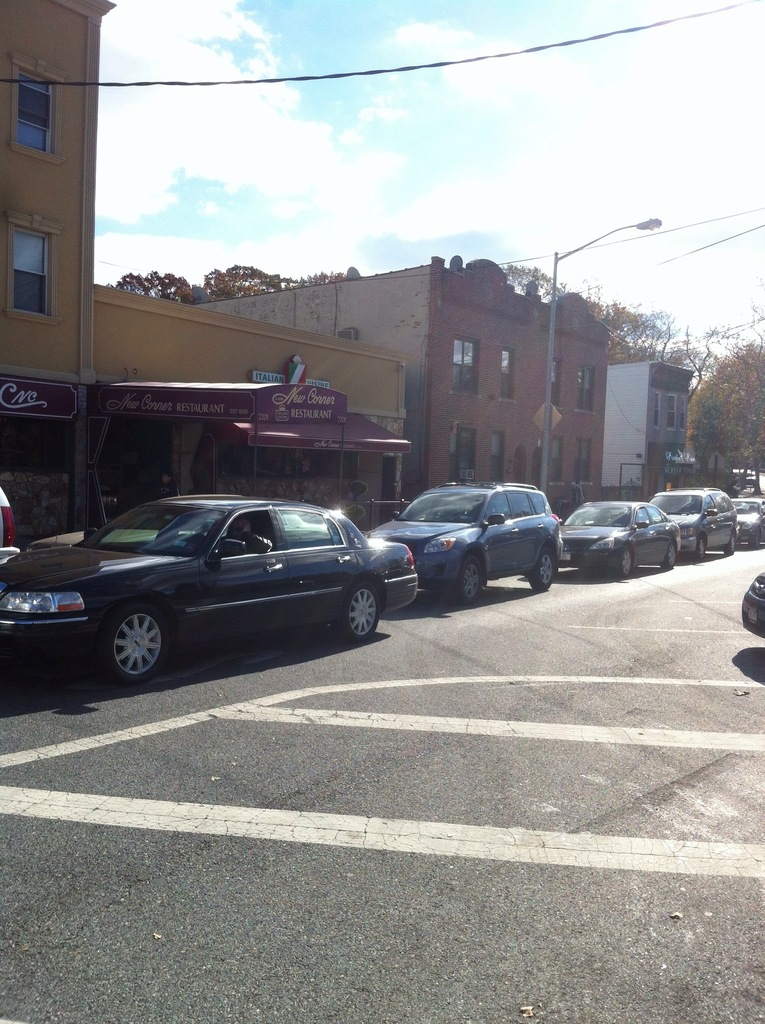Car: (0, 487, 425, 685), (370, 475, 577, 608), (551, 499, 682, 578), (649, 483, 747, 561), (745, 573, 764, 631)
